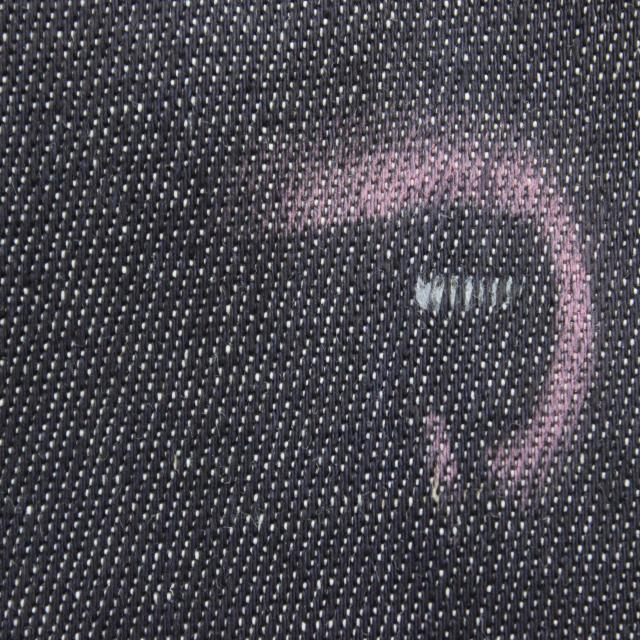pulled_or_thick_thread: (411, 264, 525, 324)
